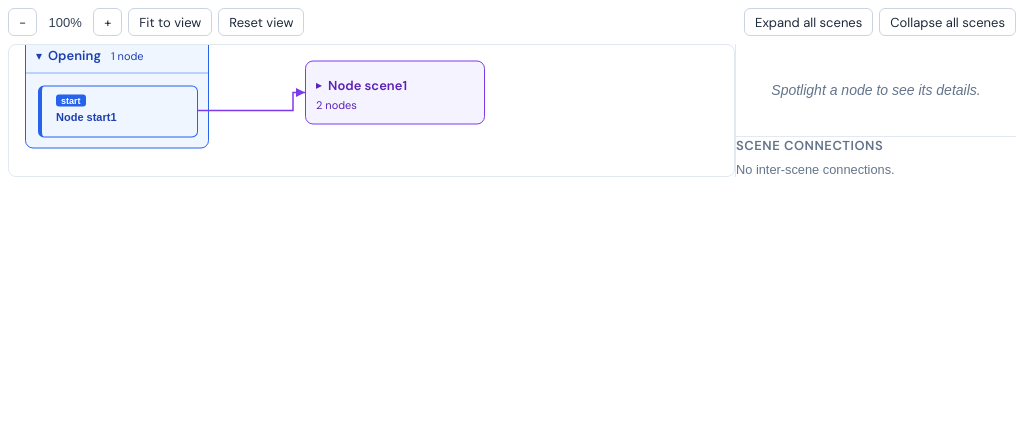
it: CanvasView — spotlight and sidebar › spotlights and selects a node card when it is activated
Click the button with aria-label "Node start1 (start)".
click(118, 112)  # box [38,86,198,138]
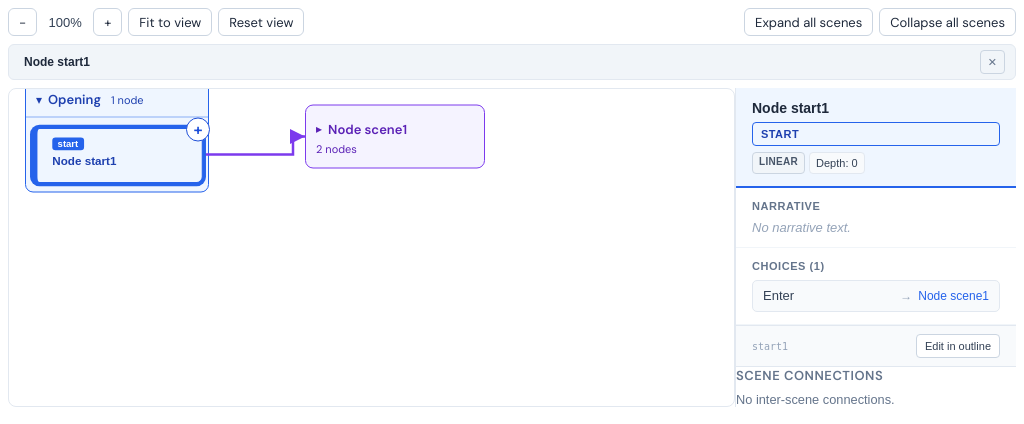
Now the heading "Node start1" is shown, box [752,100,829,116]
Now the navigation bar named "Spotlight trail" is shown, box [8,44,1016,80]
Now the text "start1" is shown, box [752,341,788,352]
